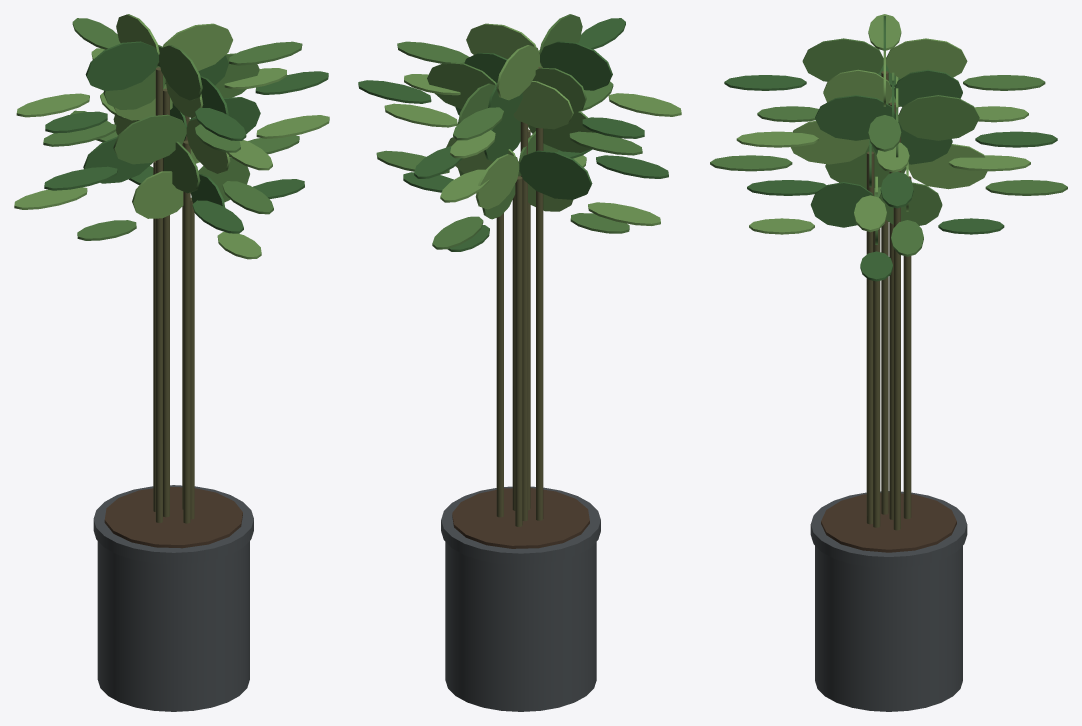
3 views of the same model, side by side, from view 1: azimuth 30°, elevation 25°; view 2: azimuth 150°, elevation 25°; view 3: azimuth 270°, elevation 25° (orthographic). The views are drawn at different scales.
Parts seen in each view (by area): view 1: pot, frond-1-1-out, frond-1-1-up, frond-1-2-out, stem-1, soil; view 2: pot, frond-1-1-up, frond-1-2-out, frond-1-1-out, stem-1, soil; view 3: pot, frond-1-1-up, frond-1-1-out, frond-1-2-out, stem-1, soil.
Part boxes in pixels (x1,y1,x2,y2): pot: (93, 485, 253, 711); frond-1-1-out: (43, 18, 302, 240); frond-1-1-up: (14, 14, 329, 259); frond-1-2-out: (44, 41, 328, 233); stem-1: (153, 67, 194, 523); soil: (104, 487, 242, 548); pot: (441, 486, 600, 711); frond-1-1-up: (384, 23, 681, 225); frond-1-2-out: (358, 18, 668, 251); frond-1-1-out: (376, 14, 642, 249); stem-1: (496, 67, 543, 526); soil: (452, 488, 589, 548); pot: (810, 491, 967, 711); frond-1-1-up: (736, 14, 1030, 234); frond-1-1-out: (710, 38, 1067, 256); frond-1-2-out: (724, 16, 1057, 281); stem-1: (866, 71, 911, 530); soil: (821, 492, 956, 552).
Size of the model in its own units: 0.87 by 1.7 by 0.87.
